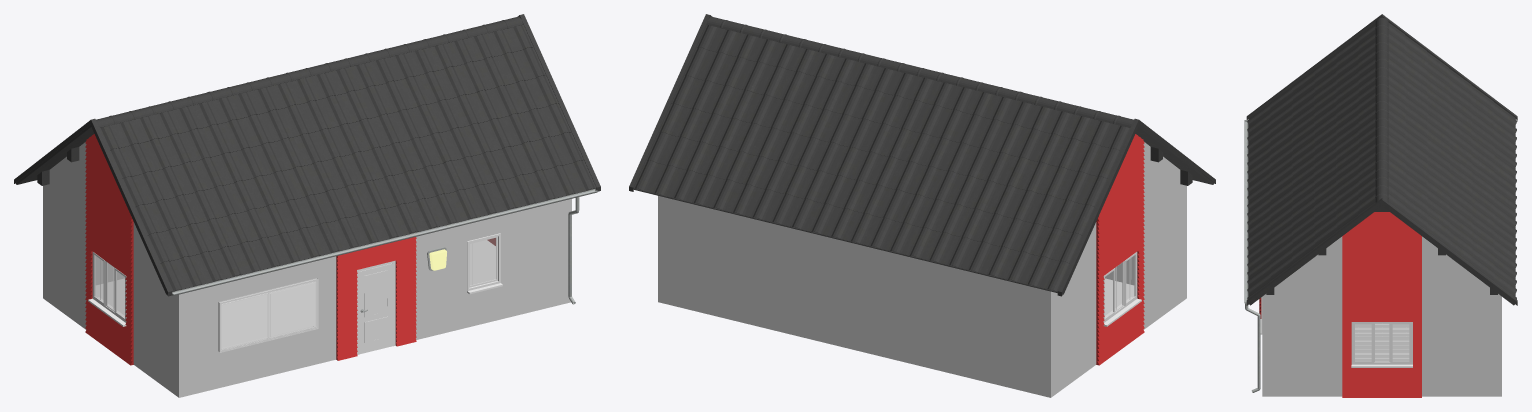
The model's file is Ein.gltf.
The picture shows the model from 3 angles, left to right: view 1: azimuth 30°, elevation 25°; view 2: azimuth 150°, elevation 25°; view 3: azimuth 270°, elevation 25°; orthographic projection. The views are drawn at different scales.
Visible parts, largest first — view 1: Cube.006, Cube, Cube.001, Cube.005, Cube.002, Door, Cube.003, Circle.001, Window.R, Window.L, Window.001, Window (+3 smaller); view 2: Cube.006, Cube, Cube.001, Cube.002, Cube.003, Cube.004, Window.001; view 3: Cube.006, Cube, Cube.001, Cube.003, Window.002, Cube.002, Venetian_slats.002, Circle.001, Cube.004.
Part boxes in pixels (x1=…): Cube.006: x1=99, y1=24, x2=596, y2=291; Cube: x1=43, y1=142, x2=571, y2=397; Cube.001: x1=85, y1=134, x2=495, y2=365; Cube.005: x1=336, y1=237, x2=416, y2=360; Cube.002: x1=96, y1=16, x2=523, y2=127; Door: x1=359, y1=263, x2=392, y2=353; Cube.003: x1=14, y1=14, x2=600, y2=296; Circle.001: x1=172, y1=189, x2=597, y2=304; Window.R: x1=268, y1=281, x2=316, y2=338; Window.L: x1=221, y1=293, x2=268, y2=349; Window.001: x1=88, y1=252, x2=126, y2=326; Window: x1=467, y1=233, x2=502, y2=294; Cube.006: x1=633, y1=24, x2=1130, y2=291; Cube: x1=658, y1=142, x2=1186, y2=397; Cube.001: x1=1096, y1=134, x2=1144, y2=365; Cube.002: x1=706, y1=16, x2=1133, y2=127; Cube.003: x1=629, y1=14, x2=1215, y2=296; Cube.004: x1=633, y1=99, x2=1213, y2=294; Window.001: x1=1103, y1=252, x2=1141, y2=326; Cube.006: x1=1247, y1=23, x2=1516, y2=299; Cube: x1=1262, y1=236, x2=1501, y2=396; Cube.001: x1=1342, y1=212, x2=1421, y2=397; Cube.003: x1=1246, y1=14, x2=1517, y2=305; Window.002: x1=1351, y1=322, x2=1412, y2=367; Cube.002: x1=1375, y1=17, x2=1389, y2=202; Venetian_slats.002: x1=1355, y1=323, x2=1408, y2=360; Circle.001: x1=1244, y1=120, x2=1260, y2=392; Cube.004: x1=1249, y1=204, x2=1514, y2=305.
Bounding box in the file's own units: 11.02 × 5.68 × 6.85.
Materials: 18 (4 with a texture image).
